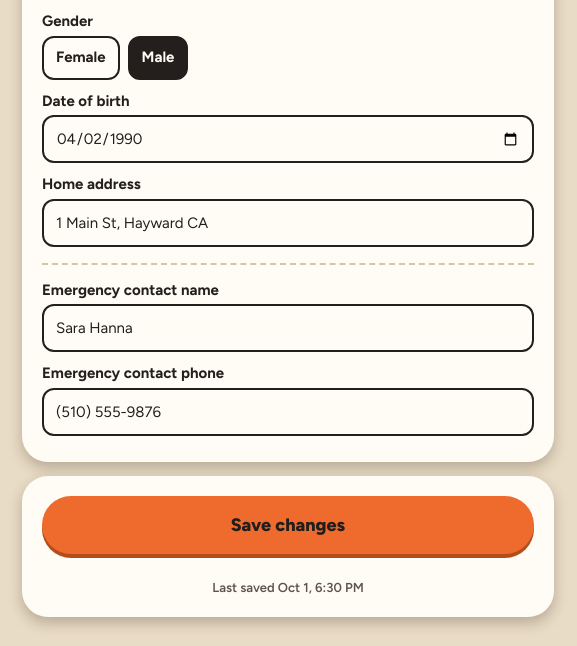
it: servant registration form › says so on the confirmation when the email could not be sent
(page scrolled)
Step 1. Click the button "Save changes" → (288, 525), box 42,496 -> 534,554
(page scrolled)
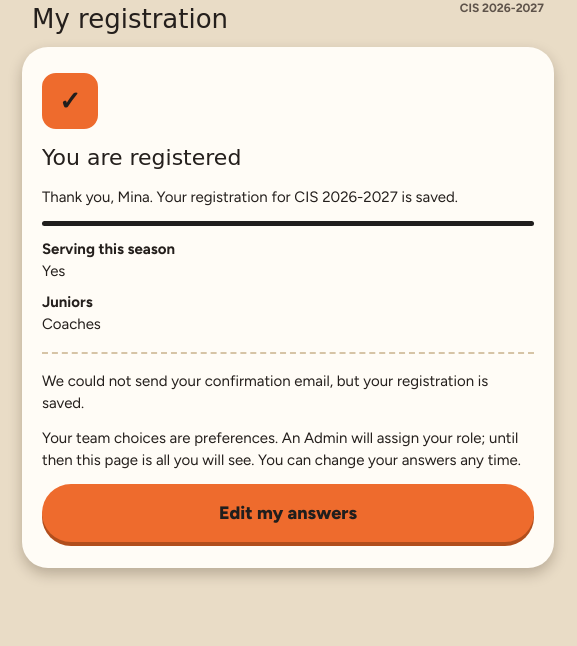
Now the text "could not send your confirmation email" is shown, box 42,372 -> 488,412
